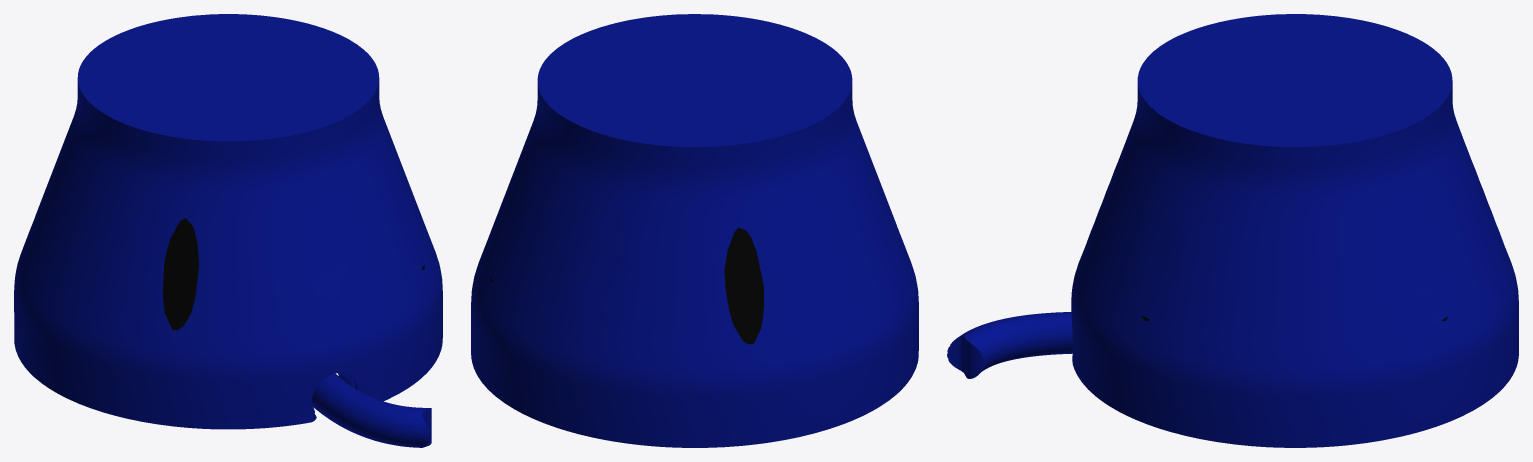
The model's file is bottom_link.dae.
The picture shows the model from 3 angles, left to right: view 1: azimuth 30°, elevation 25°; view 2: azimuth 150°, elevation 25°; view 3: azimuth 270°, elevation 25°; orthographic projection. The views are drawn at different scales.
Parts seen in each view (by area): view 1: Base; view 2: Base; view 3: Base.
Boxes of the visible parts, x1,y1,x2,y2 form: Base: (14,14,442,447); Base: (471,14,918,447); Base: (947,14,1518,447).
Bounding box in the file's own units: 0.128 × 0.1635 × 0.0868.
